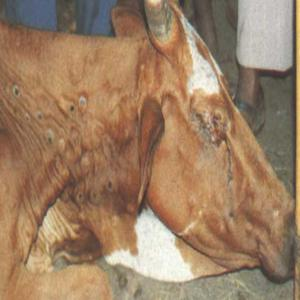lumpy skin diesease: (0, 0, 296, 299)
